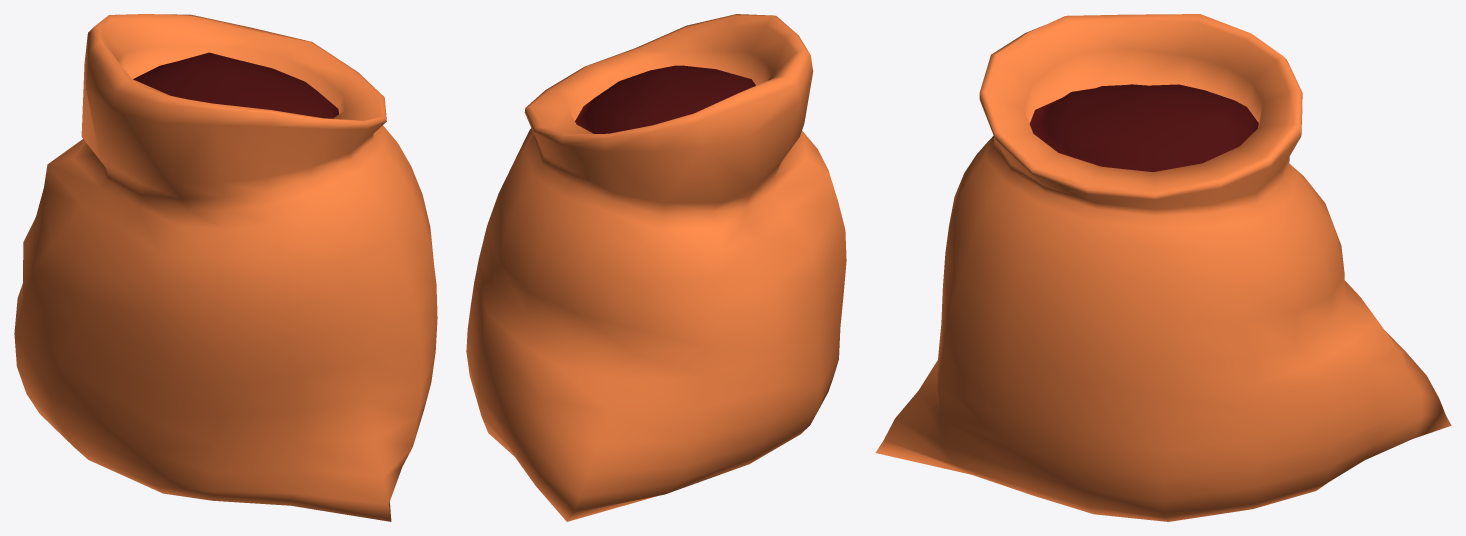
The model's file is item8.glb.
3 views of the same model, side by side, from view 1: azimuth 30°, elevation 25°; view 2: azimuth 150°, elevation 25°; view 3: azimuth 270°, elevation 25° (orthographic). The views are drawn at different scales.
Parts seen in each view (by area): view 1: Item8; view 2: Item8; view 3: Item8.
Boxes of the visible parts, left/top/right/bottom form: Item8: left=14, top=14, right=437, bottom=521; Item8: left=466, top=14, right=846, bottom=521; Item8: left=875, top=14, right=1451, bottom=521.
Size of what is drawn, in the model's own units: 0.3757 by 0.3884 by 0.5267.
Materials: 1 (1 with a texture image).
